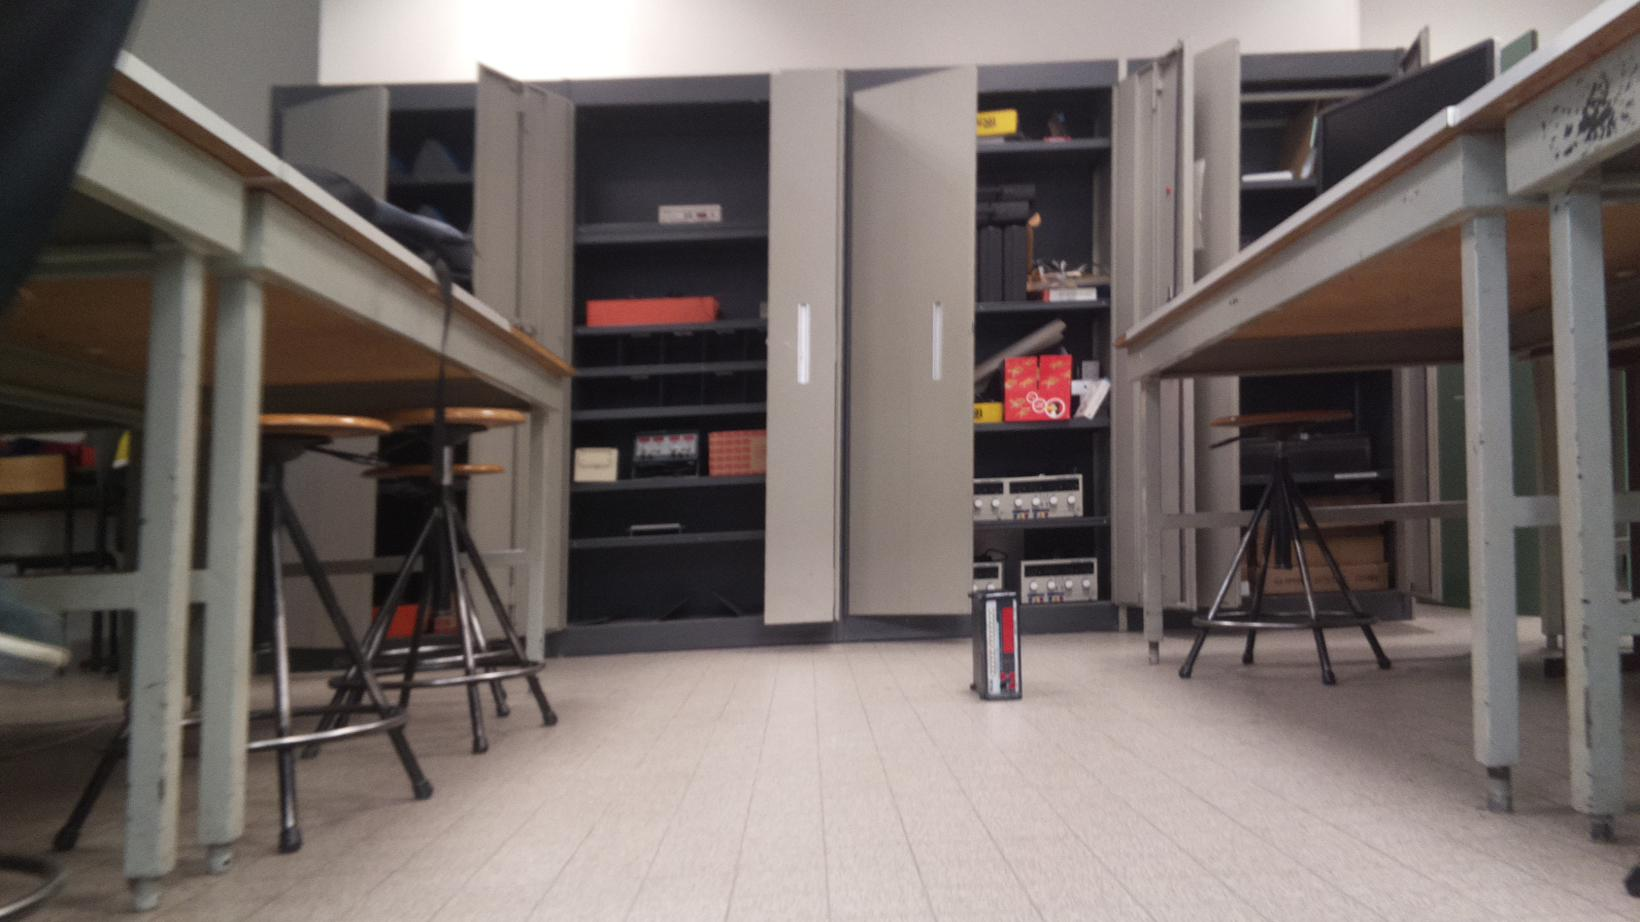medium: (968, 587, 1025, 701)
